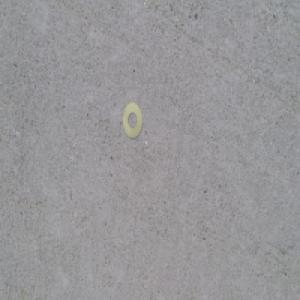Washer: (123, 103, 143, 141)
